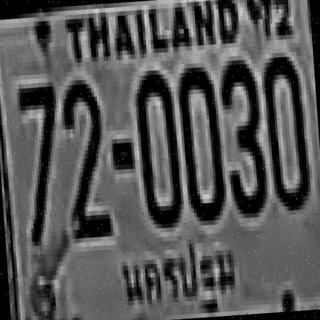N00: (132, 65, 181, 225), (260, 51, 309, 207), (174, 62, 223, 218)
N02: (59, 74, 108, 234)
N03: (217, 54, 266, 214)
N07: (16, 82, 63, 242)
P28: (114, 236, 240, 320)
